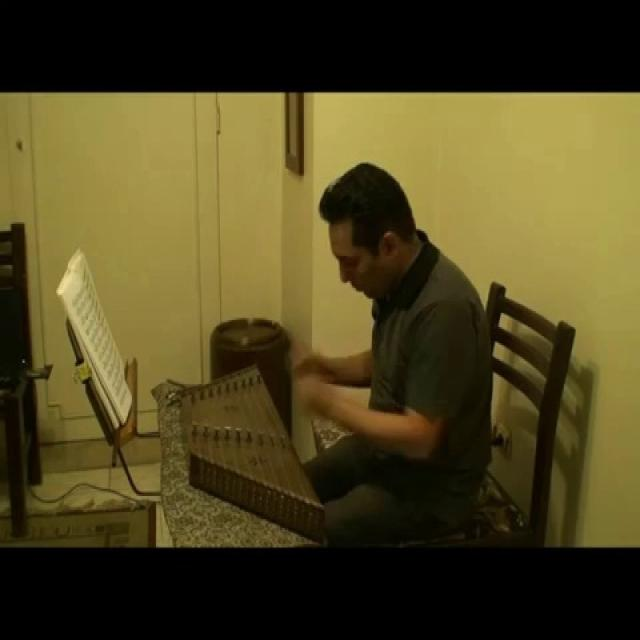Santur: (175, 344, 345, 543)
